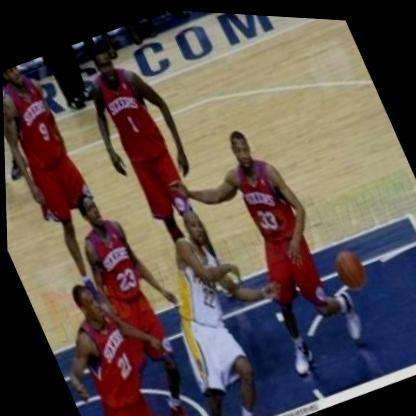basketball: (322, 234, 376, 296)
